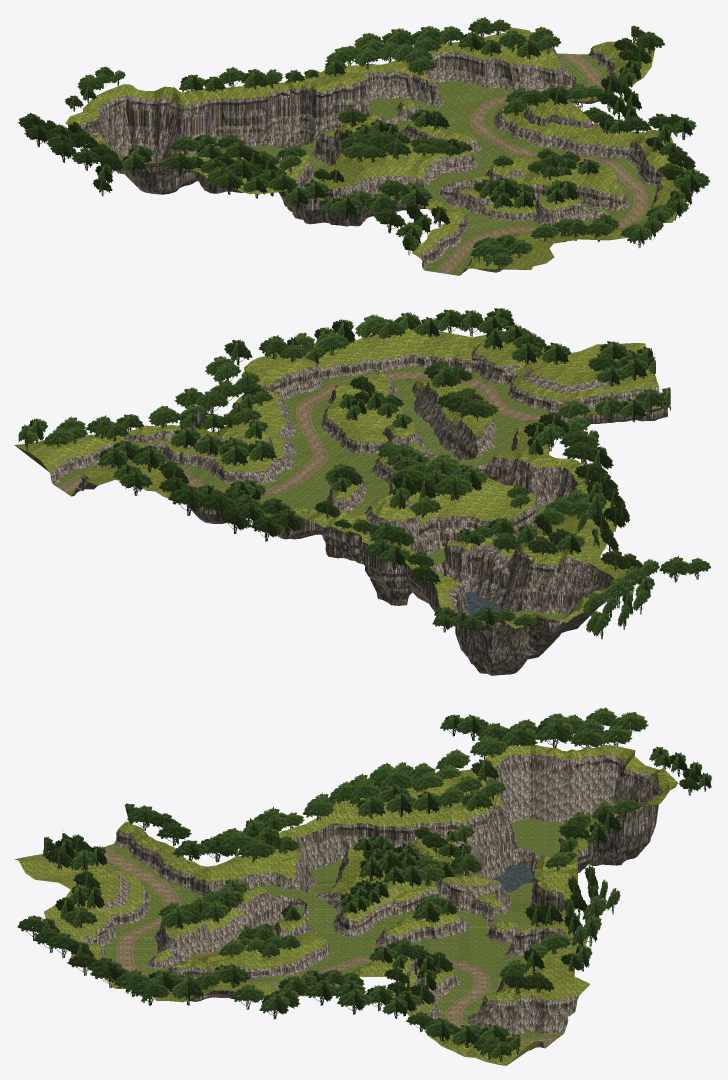
File: EbelHighway3.obj
3 renders of one model, top to bottom at view 1: azimuth 30°, elevation 25°; view 2: azimuth 150°, elevation 25°; view 3: azimuth 270°, elevation 25°, orthographic. The views are drawn at different scales.
Visible parts, largest first — view 1: Object.417, Object.423, Object.420, Object.418, Object.421, Object.419; view 2: Object.417, Object.423, Object.420, Object.418, Object.421, Object.419; view 3: Object.417, Object.423, Object.420, Object.418, Object.421, Object.419, Object.422.
Boxes of the visible parts, x1,y1,x2,y2 form: Object.417: (18,17,710,271); Object.423: (80,30,663,275); Object.420: (65,27,691,272); Object.418: (221,53,656,275); Object.421: (437,53,645,273); Object.419: (436,53,647,274); Object.417: (18,308,710,639); Object.423: (50,348,667,675); Object.420: (14,328,661,628); Object.418: (52,366,652,621); Object.421: (59,373,660,493); Object.419: (58,372,656,495); Object.417: (17,707,712,1061); Object.423: (42,753,663,1050); Object.420: (14,745,677,1065); Object.418: (103,818,592,1048); Object.421: (104,850,556,1043); Object.419: (103,847,558,1044); Object.422: (493,864,532,892).
Size of the model in its own units: 332 by 49.04 by 298.
13 materials, 13 textured.
